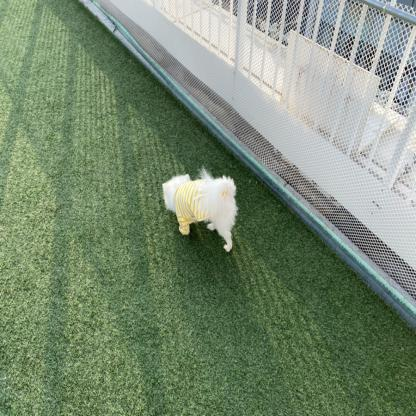dog: (152, 155, 257, 269)
